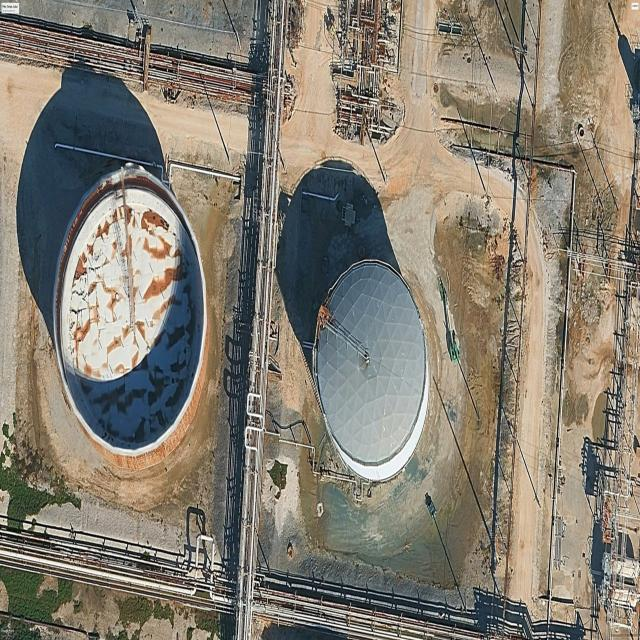Oil Rafinery: (53, 164, 208, 468), (313, 261, 428, 480)
